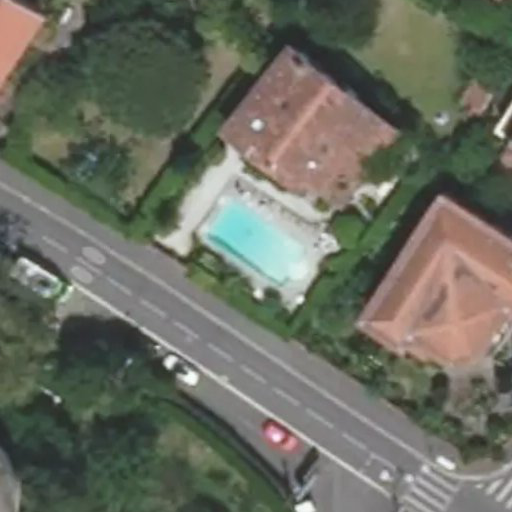pool: (203, 235, 318, 255)
